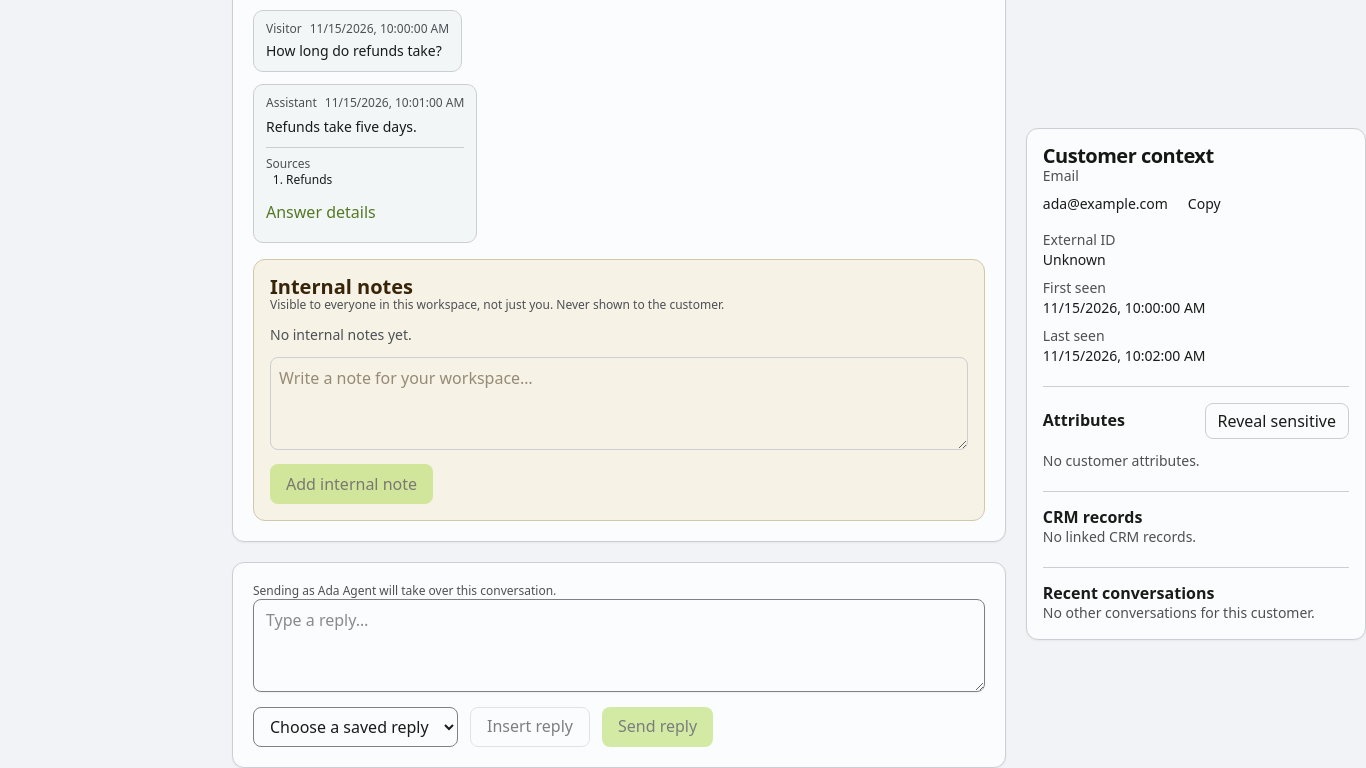
ConversationDetail › inserts a saved reply into the composer without sending it
(page scrolled)
Select "Greeting" in the dropdown named "Saved replies": (356, 727) x1=253 y1=707 x2=458 y2=747
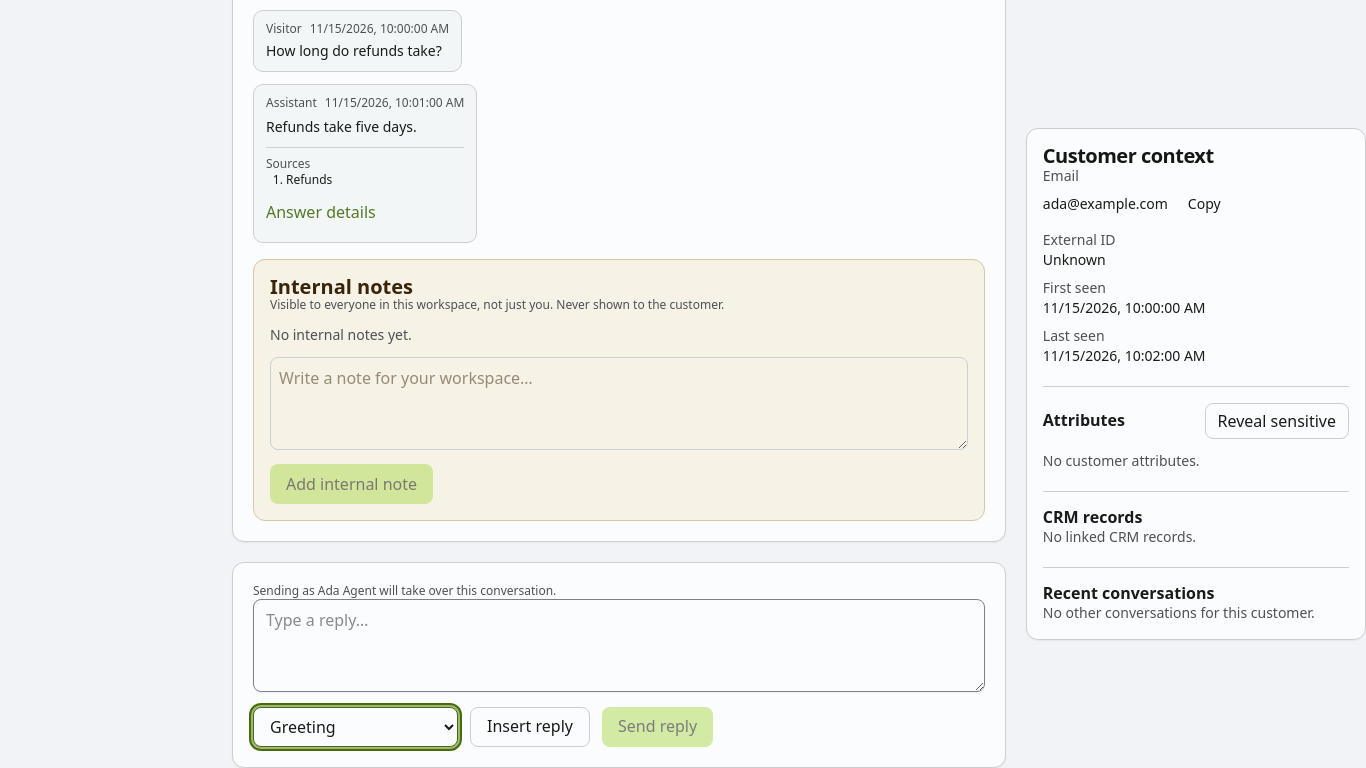
Click the button "Insert reply": (530, 727) x1=470 y1=707 x2=590 y2=747
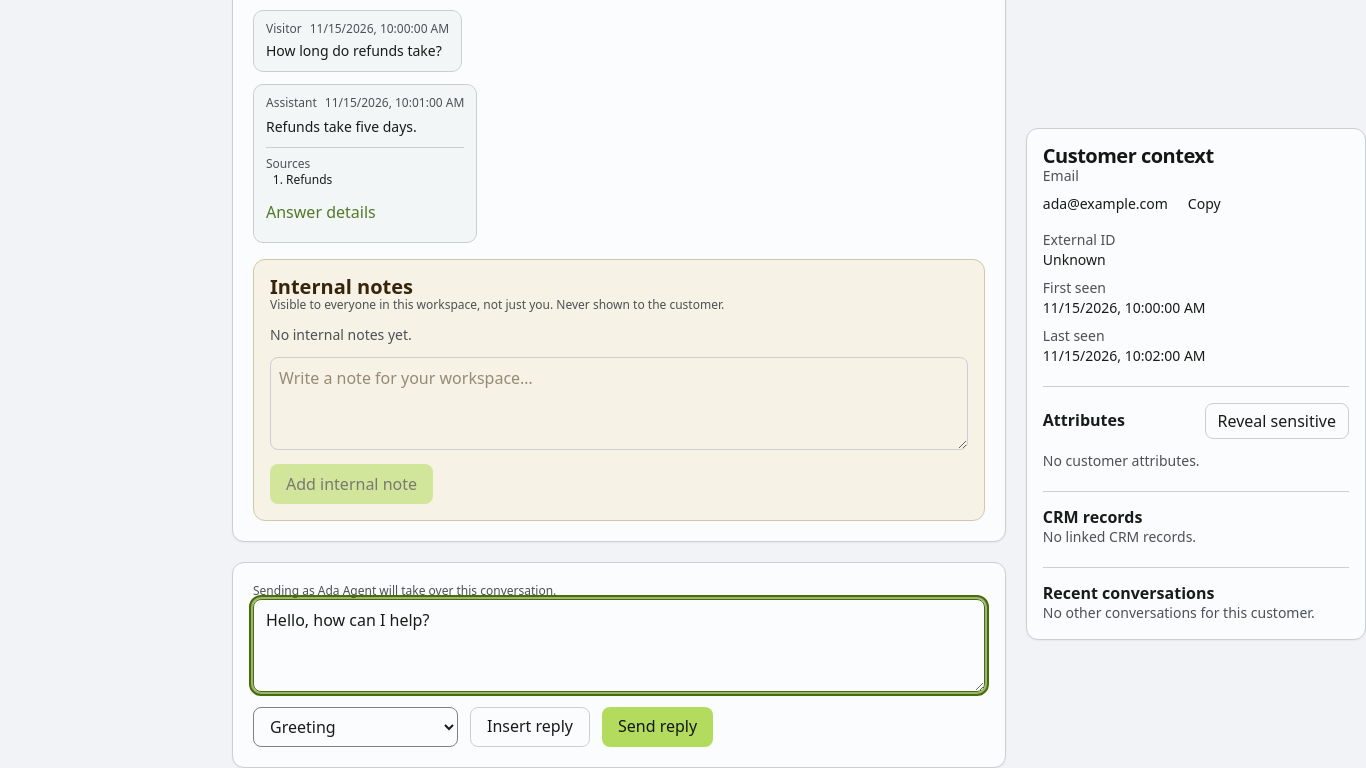
Expected: the text box named "Reply to the visitor" holds "Hello, how can I help?", x1=253 y1=600 x2=985 y2=692
